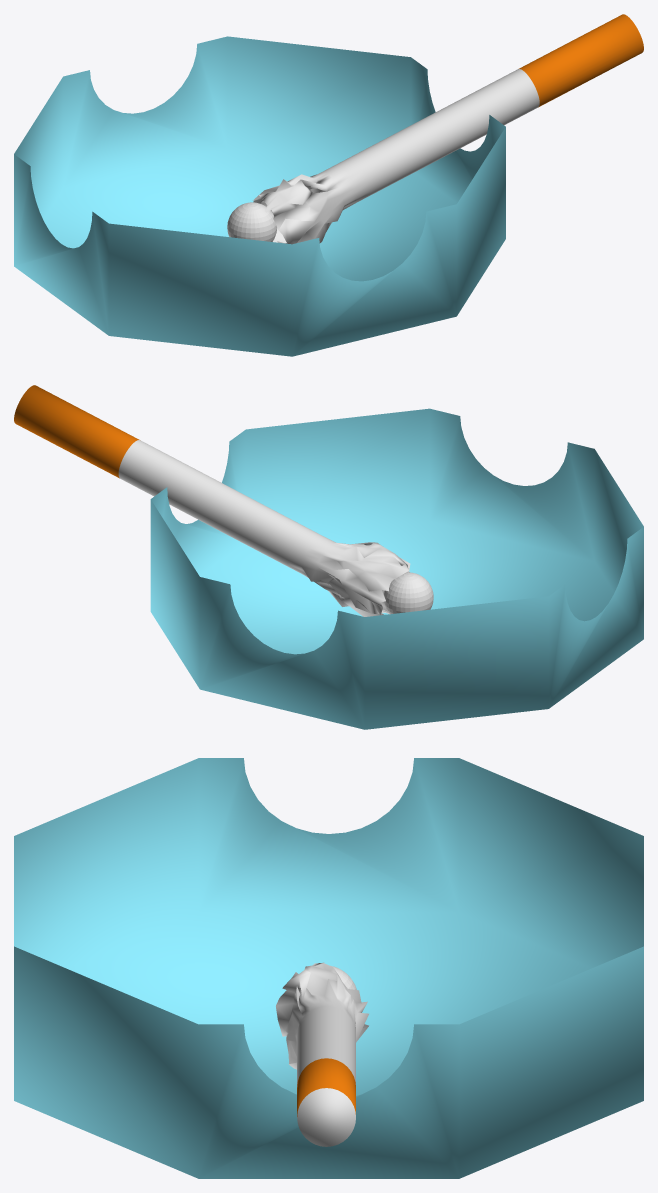
The model's file is Asbak.glb.
The picture shows the model from 3 angles, top to bottom: view 1: azimuth 30°, elevation 25°; view 2: azimuth 150°, elevation 25°; view 3: azimuth 270°, elevation 25°; orthographic projection. The views are drawn at different scales.
Parts seen in each view (by area): view 1: Cylinder, Cylinder.001, Sphere; view 2: Cylinder, Cylinder.001, Sphere; view 3: Cylinder, Cylinder.001.
Boxes of the visible parts, bbox=[...] form: Cylinder: bbox=[14, 36, 505, 356]; Cylinder.001: bbox=[252, 14, 643, 244]; Sphere: bbox=[227, 202, 276, 241]; Cylinder: bbox=[150, 408, 643, 729]; Cylinder.001: bbox=[14, 385, 410, 616]; Sphere: bbox=[384, 572, 433, 614]; Cylinder: bbox=[14, 758, 643, 1178]; Cylinder.001: bbox=[276, 962, 368, 1146].
Size of what is drawn, in the model's own units: 2.68 by 0.6987 by 1.85.
